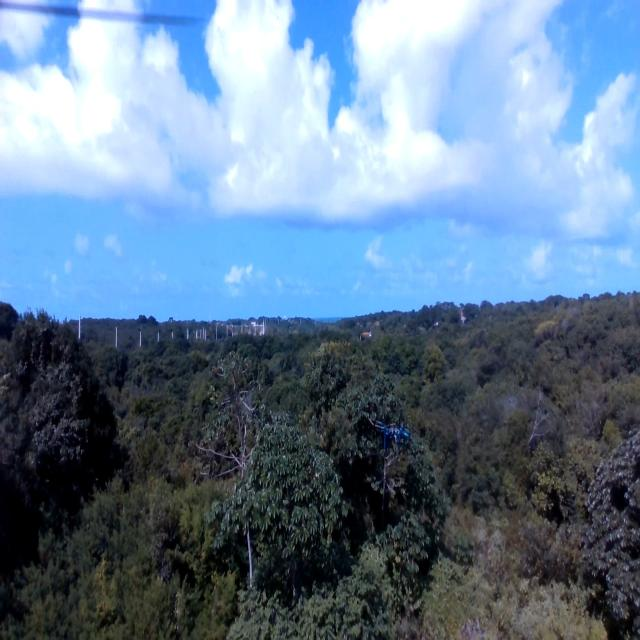-uav-: (361, 404, 420, 470)
